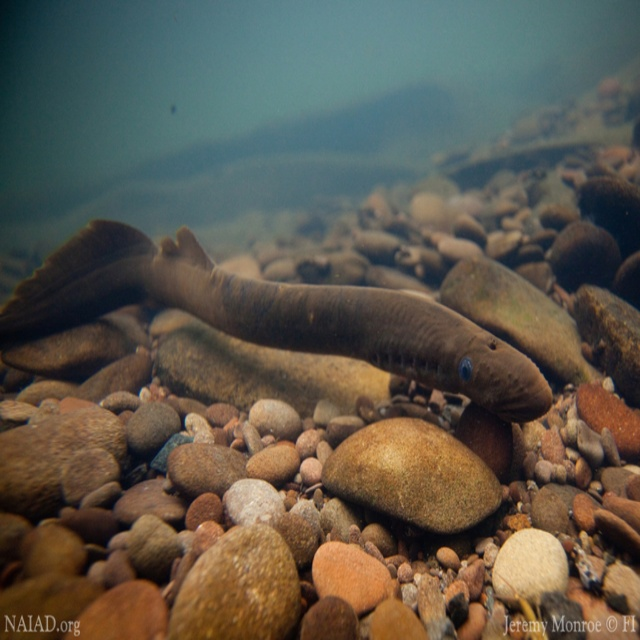Fish: (1, 214, 552, 447)
